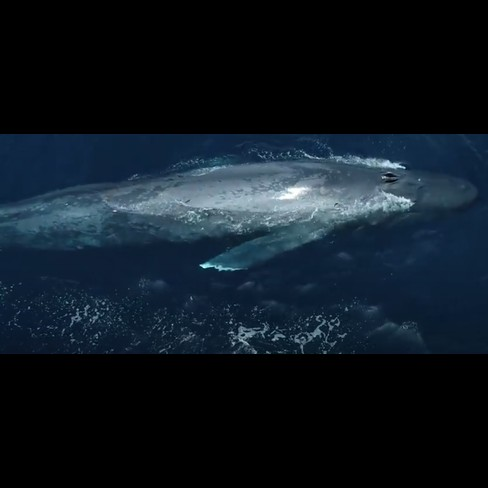bluewhale: (1, 151, 482, 286)
